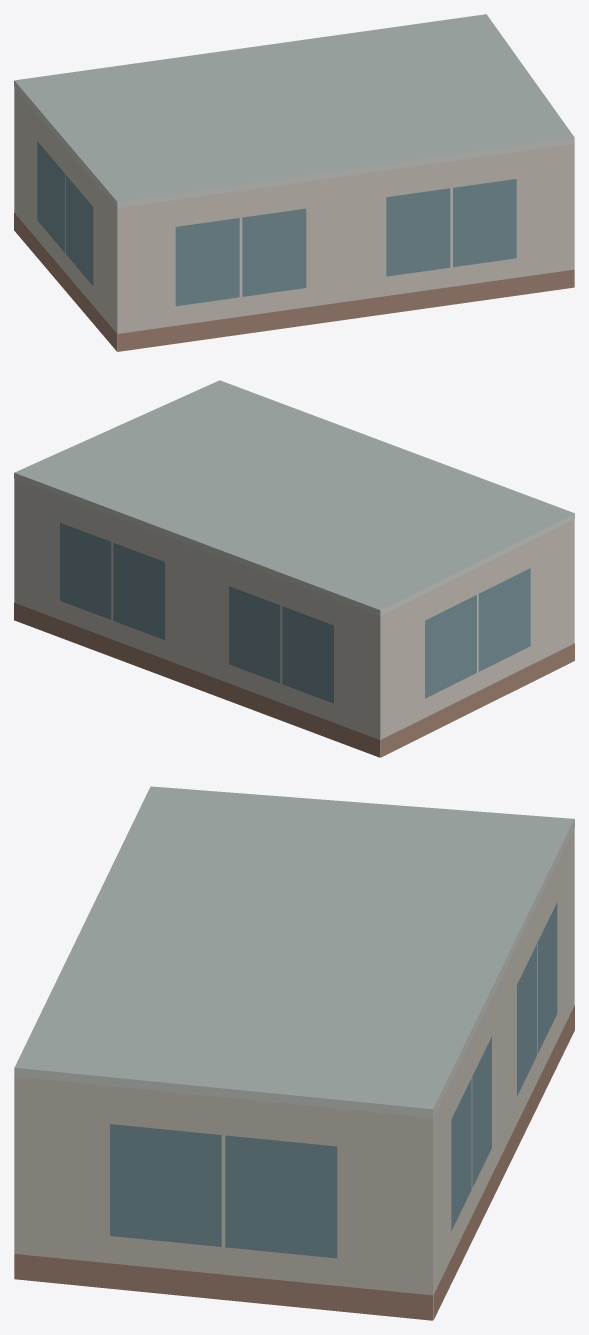
Rendered from survey-upis-32679485.glb.
3 renders of one model, top to bottom at view 1: azimuth 30°, elevation 25°; view 2: azimuth 150°, elevation 25°; view 3: azimuth 270°, elevation 25°, orthographic. The views are drawn at different scales.
Parts seen in each view (by area): view 1: survey-upis-32679485.tmp; view 2: survey-upis-32679485.tmp; view 3: survey-upis-32679485.tmp.
Boxes of the visible parts, bbox=[...] form: survey-upis-32679485.tmp: bbox=[14, 14, 574, 351]; survey-upis-32679485.tmp: bbox=[14, 380, 574, 757]; survey-upis-32679485.tmp: bbox=[14, 786, 574, 1320].
Bounding box in the file's own units: 10.01 × 3.05 × 7.34.
